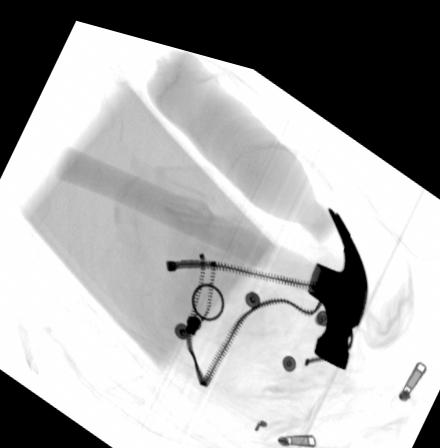Hammer: (58, 143, 369, 351)
